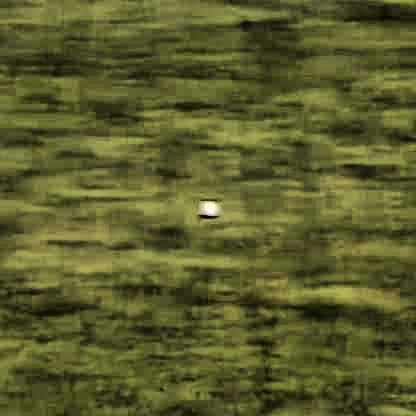golfball: (196, 202, 218, 218)
